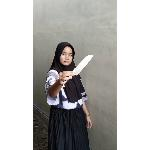Pisau: (62, 54, 96, 86)
